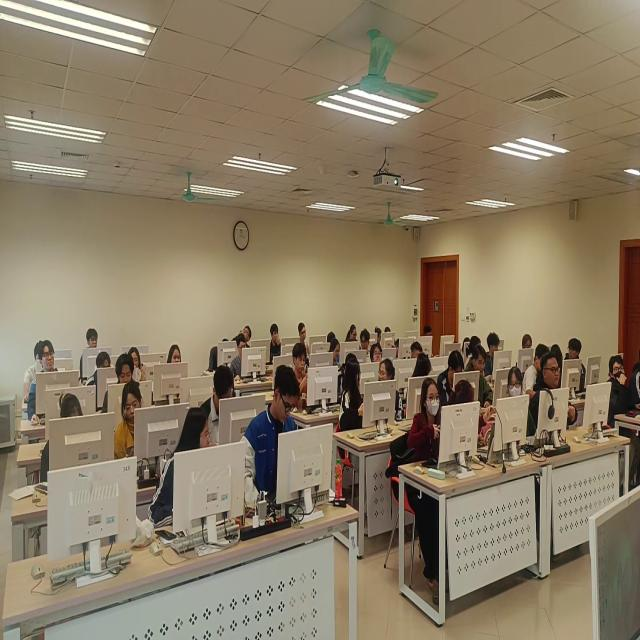raise_head: (530, 355, 574, 437), (406, 374, 443, 463), (28, 340, 58, 429), (606, 349, 630, 429), (79, 322, 102, 383), (269, 321, 284, 365), (164, 343, 184, 366), (370, 340, 386, 368), (298, 319, 308, 348)
using_computer: (244, 360, 302, 507), (37, 394, 86, 486), (203, 364, 236, 448), (114, 380, 146, 463), (104, 355, 135, 414), (469, 343, 495, 407), (437, 349, 466, 404), (23, 339, 44, 405), (526, 343, 547, 400), (87, 350, 114, 386), (231, 331, 248, 379), (128, 345, 147, 384), (414, 349, 435, 384), (487, 328, 501, 374), (466, 333, 481, 371), (329, 337, 342, 367), (409, 340, 425, 361), (346, 320, 359, 345), (522, 333, 534, 353), (423, 323, 434, 337), (375, 326, 383, 342), (386, 326, 394, 338)
using_phone: (293, 340, 312, 406)
